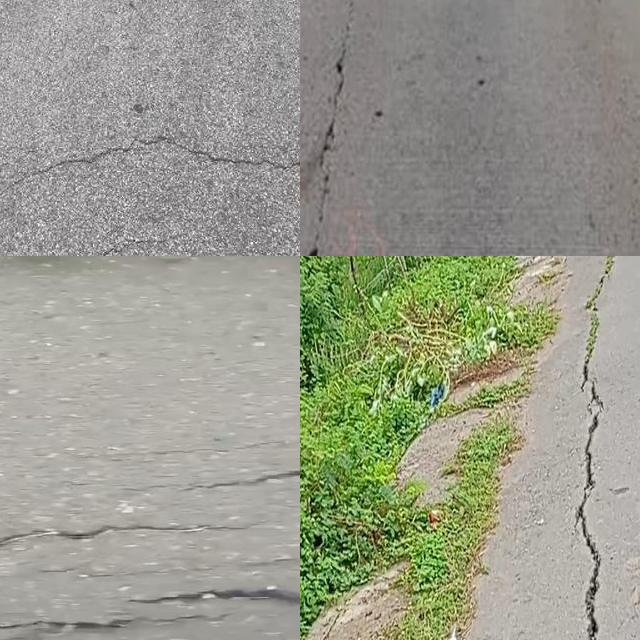Melintang: (0, 125, 300, 213), (0, 582, 300, 640), (0, 508, 264, 552), (183, 459, 300, 501)
Memanjang: (562, 256, 624, 640), (300, 0, 365, 256)
